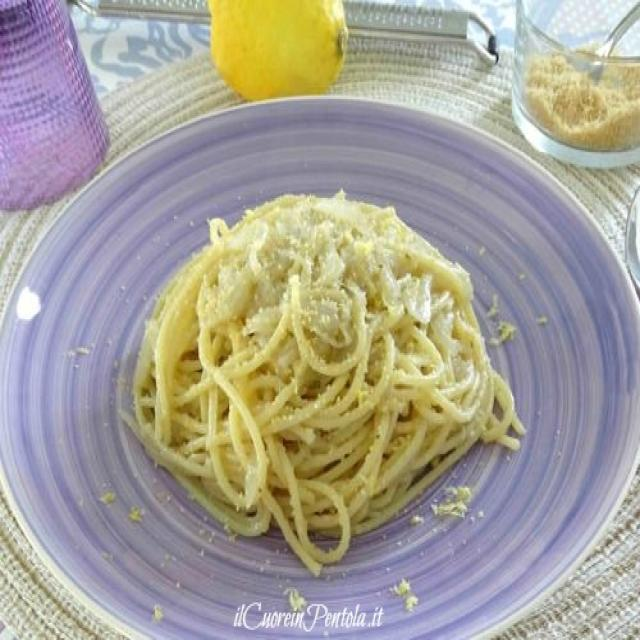Oil pasta: (101, 147, 562, 563)
